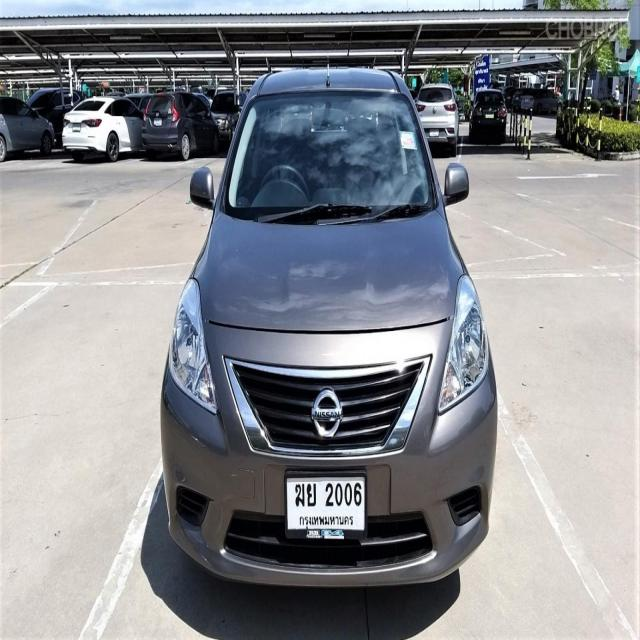license_plate: (281, 466, 369, 557)
